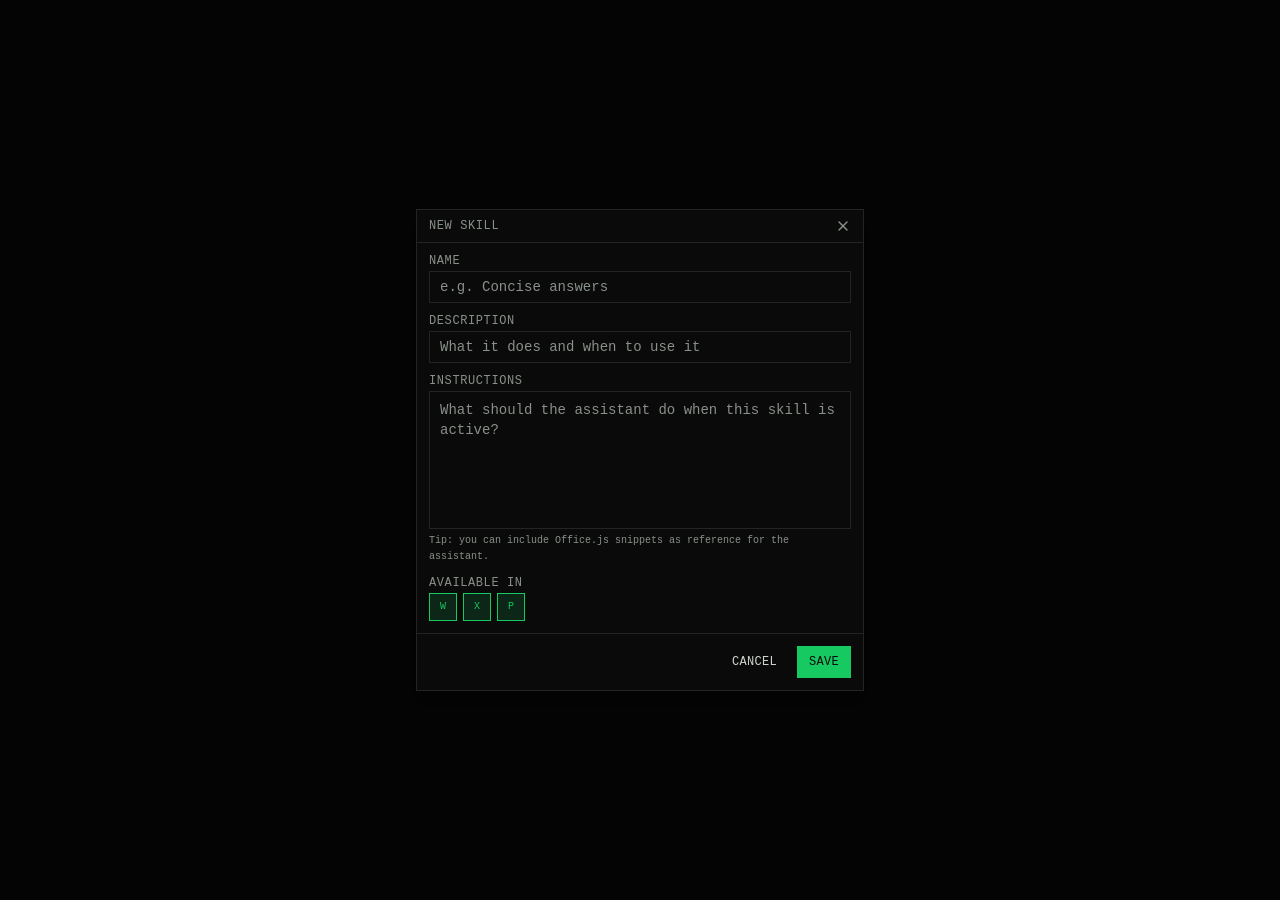
SkillEditorDialog › requires a description
Type "X" into the field labelled "Name".
click(640, 287); type("X")  # box [429,271,851,303]
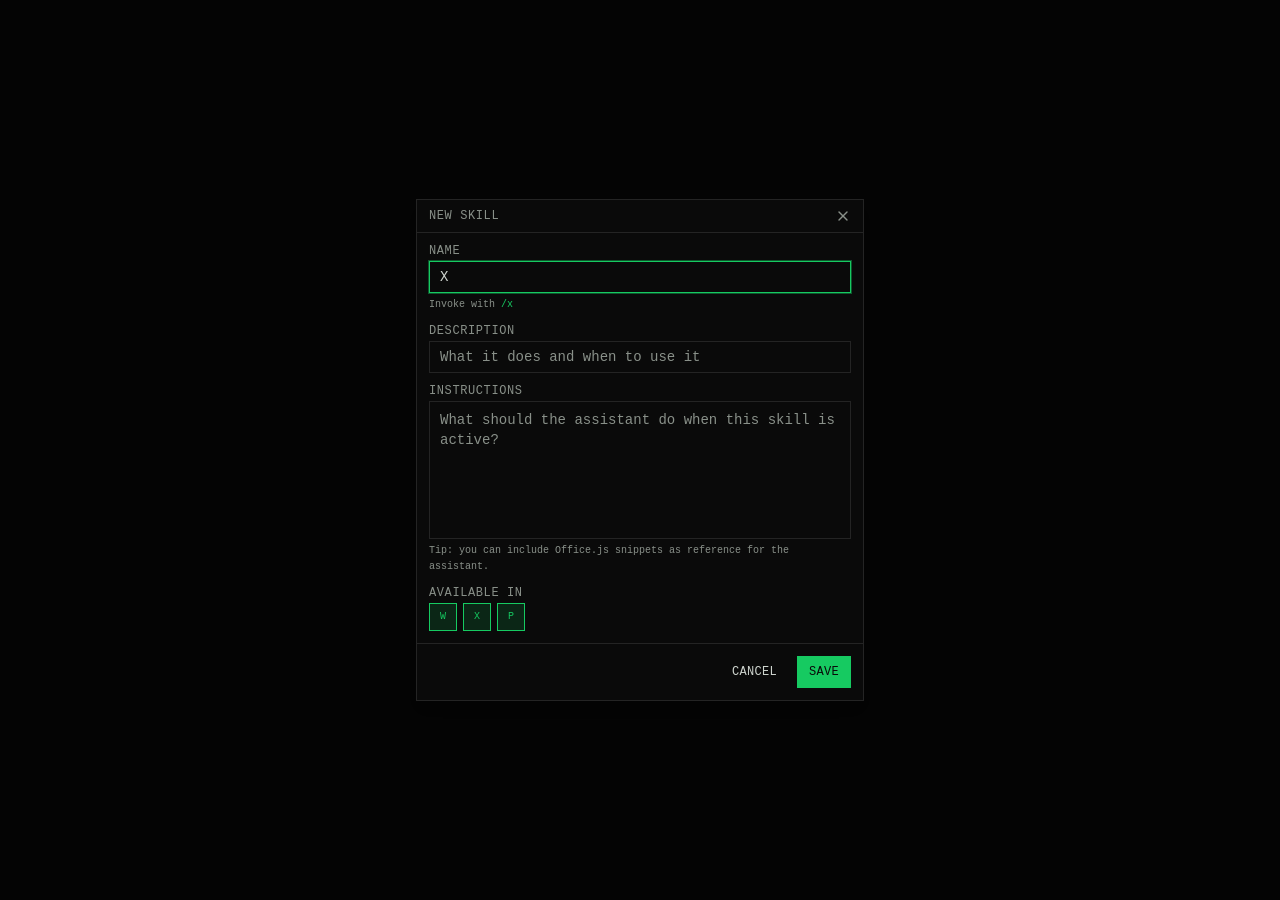
Click the button "Save".
click(824, 672)  # box [797,656,851,688]
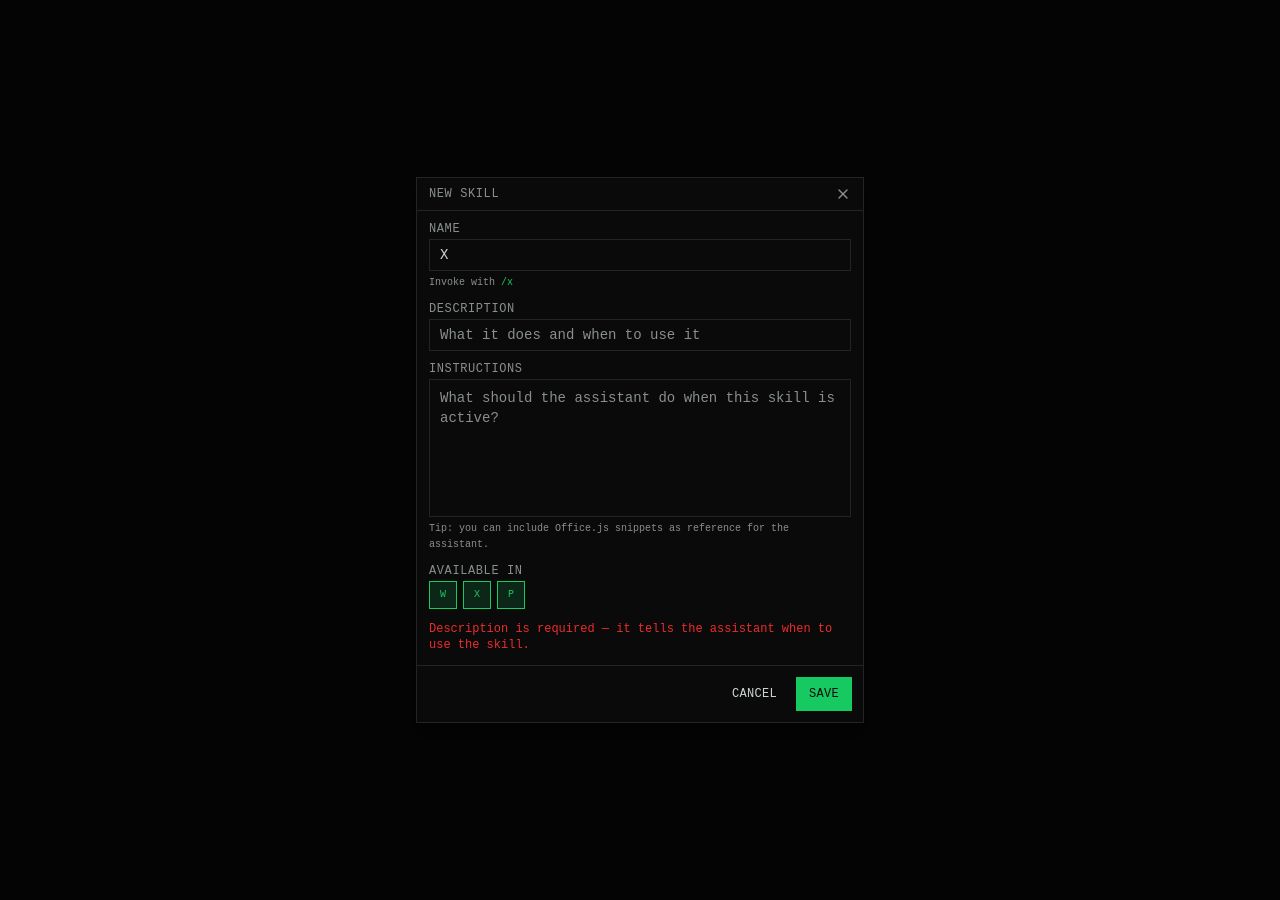
Now the message shows "Description is required", box [429,622,832,652]
